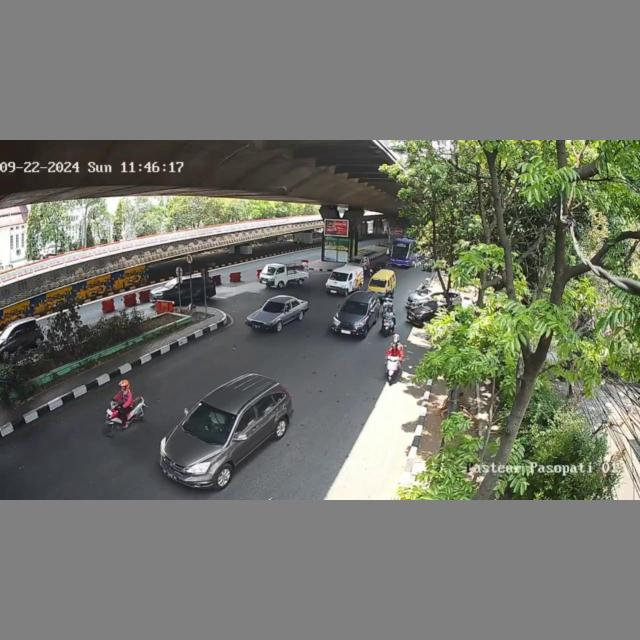windshield: (186, 402, 233, 443), (338, 298, 371, 316), (261, 299, 287, 312), (329, 270, 348, 282), (368, 280, 387, 288)
